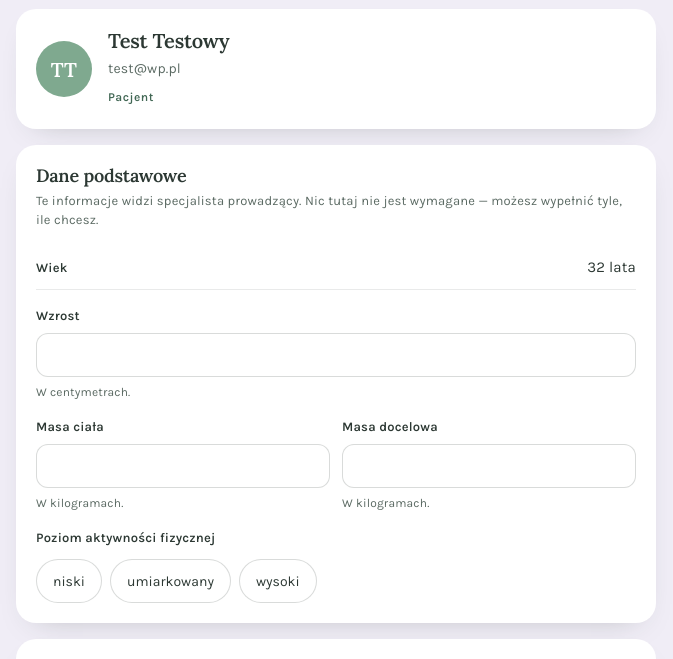
Test: the health fields hold what is stored and nothing else › says the profile was saved, and only after the server said so
Type "71" into the field labelled "Masa ciała".
click(183, 466); type("71")  # box top-left (36, 444), bottom-right (330, 488)
(page scrolled)
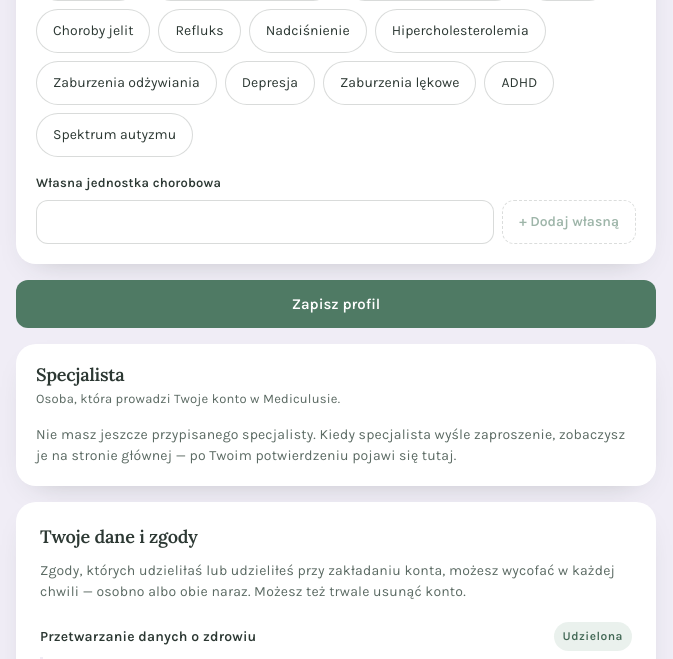
Click the button "Zapisz profil".
click(336, 304)  # box top-left (16, 280), bottom-right (656, 328)
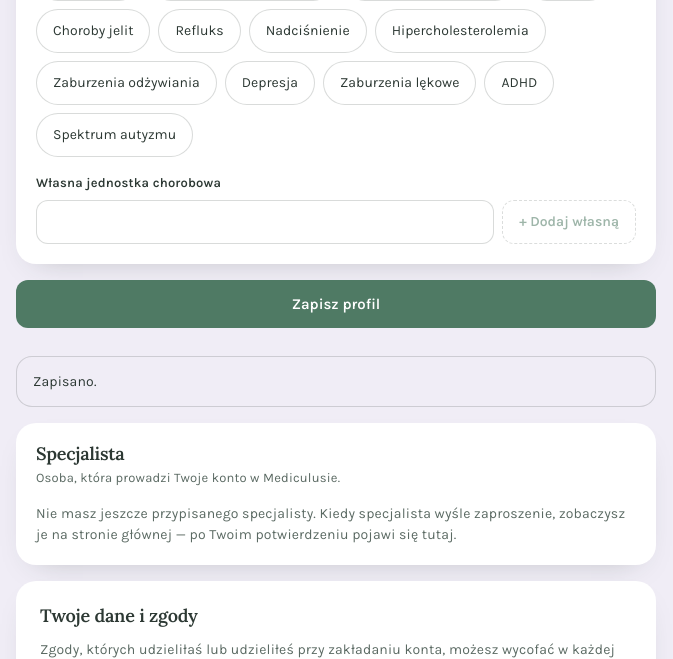
Expected: the message reads "Zapisano.", top-left (33, 373), bottom-right (97, 390)
